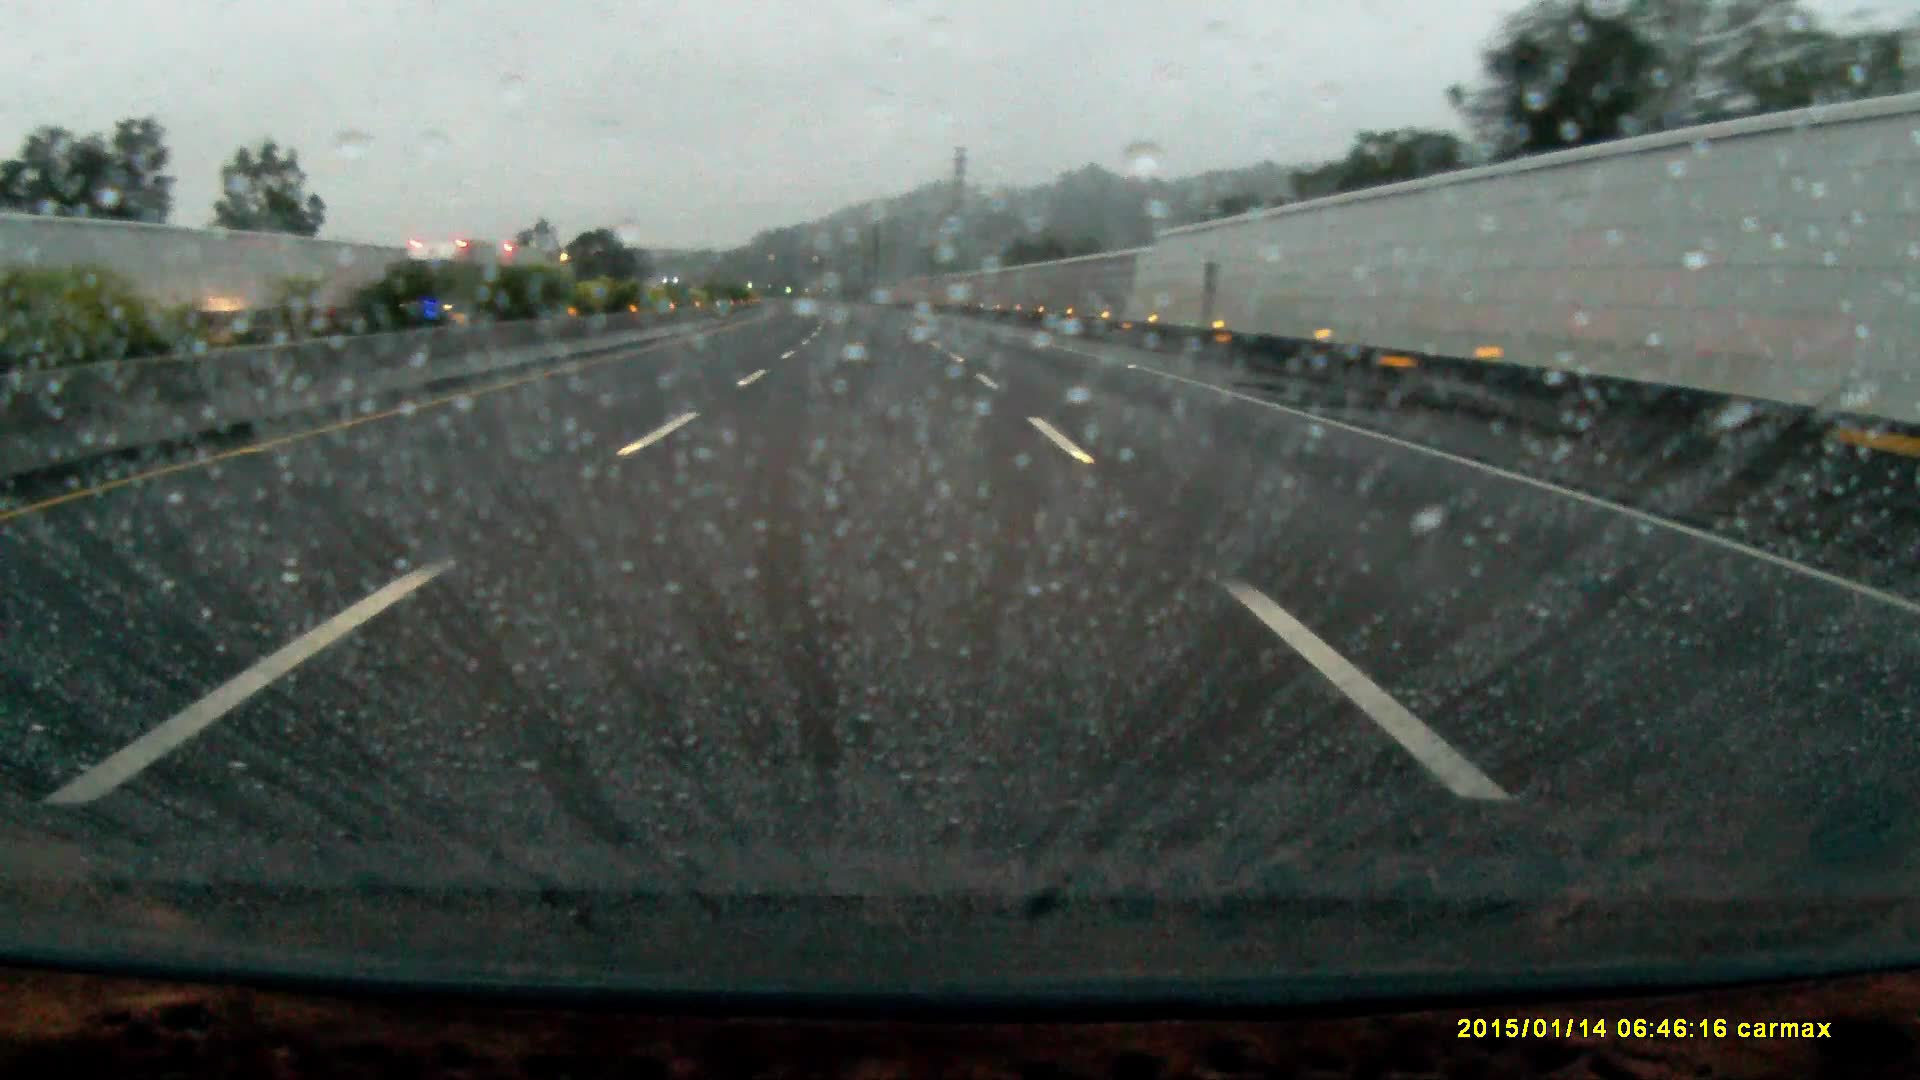vehicle: (394, 237, 537, 320)
